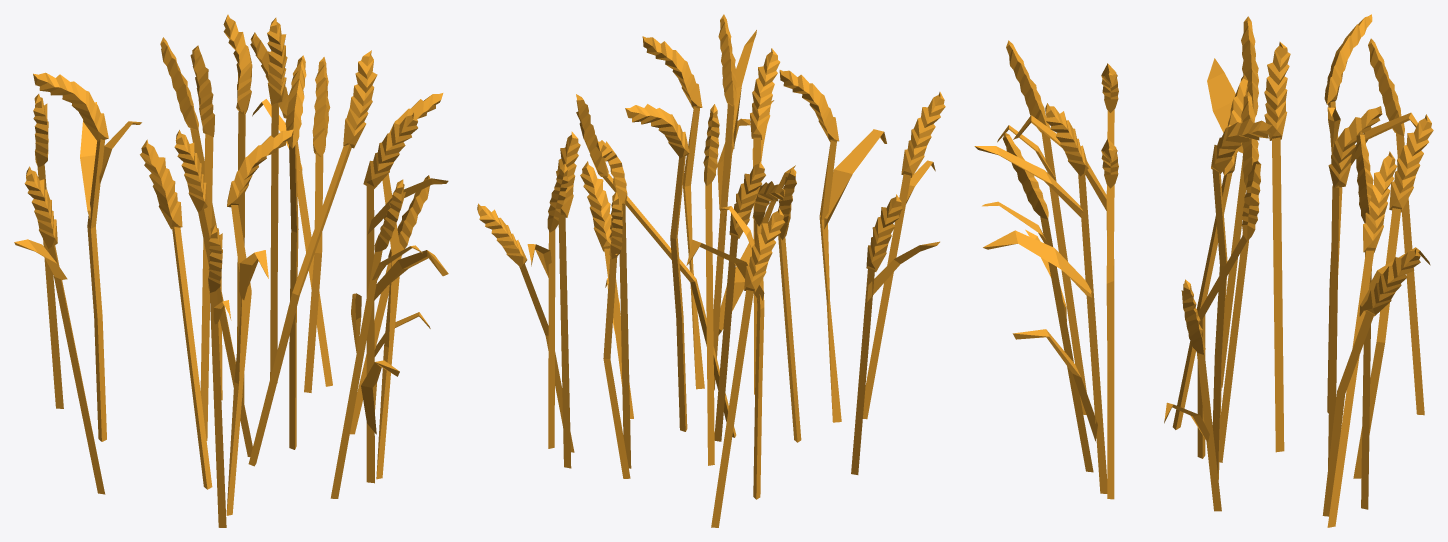
File: SM_Wheat_Detail.fbx
3 views of the same model, side by side, from view 1: azimuth 30°, elevation 25°; view 2: azimuth 150°, elevation 25°; view 3: azimuth 270°, elevation 25° (orthographic). The views are drawn at different scales.
Visible parts, largest first — view 1: wheat-detail; view 2: wheat-detail; view 3: wheat-detail.
Part boxes in pixels (x1=…): wheat-detail: x1=14, y1=14, x2=448, y2=527; wheat-detail: x1=477, y1=14, x2=945, y2=527; wheat-detail: x1=974, y1=14, x2=1433, y2=527.
Bounding box in the file's own units: 1.37 × 1.26 × 1.29.
